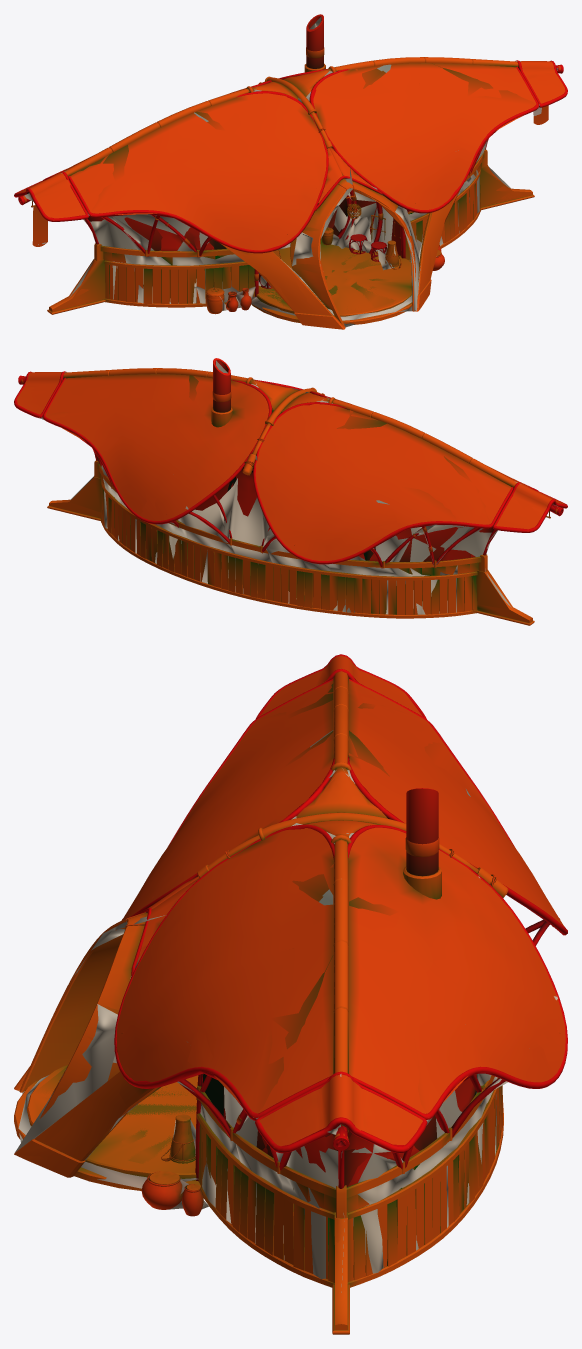
The model's file is KB3D_GAE_BldgSM_A.glb.
The picture shows the model from 3 angles, top to bottom: view 1: azimuth 30°, elevation 25°; view 2: azimuth 150°, elevation 25°; view 3: azimuth 270°, elevation 25°; orthographic projection. The views are drawn at different scales.
Visible parts, largest first — view 1: L0, L1, L2; view 2: L0, L1, L2; view 3: L0, L1, L2.
Boxes of the visible parts, x1,y1,x2,y2 form: L0: (14, 15, 567, 329); L1: (16, 14, 565, 329); L2: (24, 17, 558, 327); L0: (14, 358, 567, 625); L1: (16, 359, 564, 622); L2: (39, 360, 557, 614); L0: (14, 654, 567, 1334); L1: (14, 664, 565, 1329); L2: (15, 730, 557, 1292).
Bounding box in the file's own units: 21.71 × 8.08 × 10.58.
